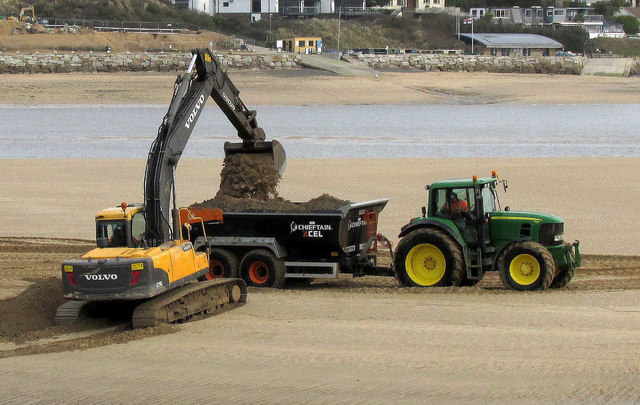excavator: (53, 56, 289, 335)
truck: (184, 165, 590, 294)
